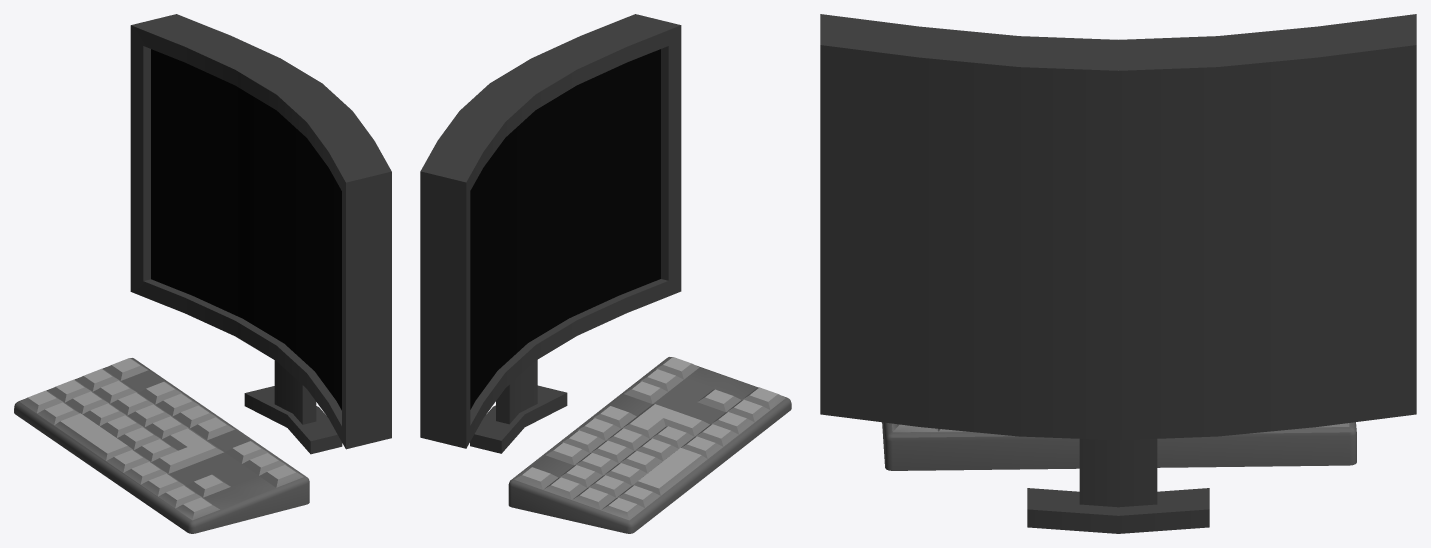
The model's file is Secretary-Computer.fbx.
3 renders of one model, left to right at view 1: azimuth 30°, elevation 25°; view 2: azimuth 150°, elevation 25°; view 3: azimuth 270°, elevation 25°, orthographic. The views are drawn at different scales.
Visible parts, largest first — view 1: Secretary-Computer, Secretary-Keyboard; view 2: Secretary-Computer, Secretary-Keyboard; view 3: Secretary-Computer, Secretary-Keyboard.
Part boxes in pixels (x1,y1,x2,y2): Secretary-Computer: (130,14,391,454); Secretary-Keyboard: (14,358,309,533); Secretary-Computer: (420,14,681,453); Secretary-Keyboard: (508,357,791,533); Secretary-Computer: (820,14,1416,533); Secretary-Keyboard: (882,422,1356,470).
Size of the model in its own units: 1.18 by 1.68 by 1.95.
